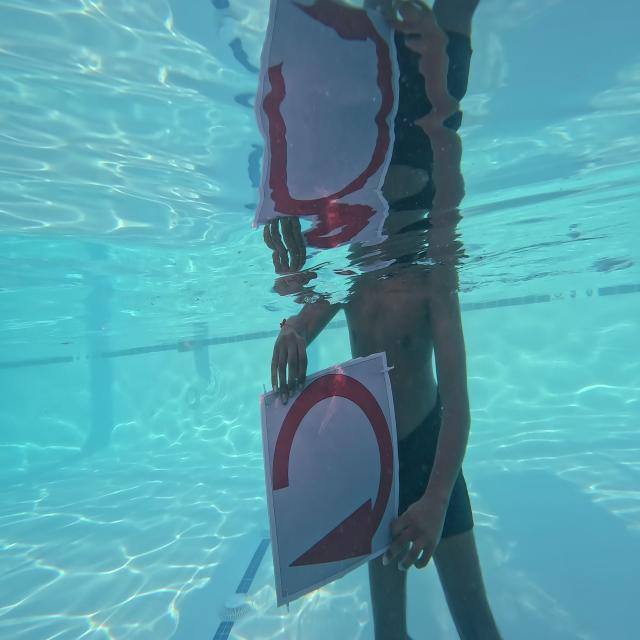red_side: (263, 362, 401, 578)
